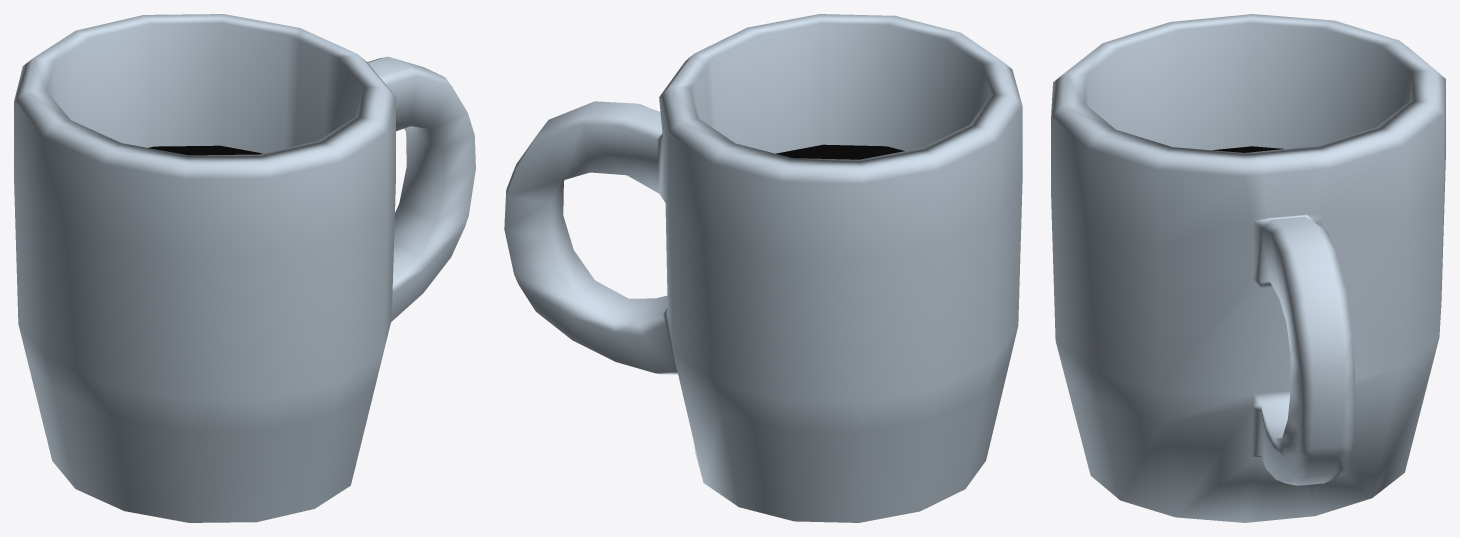
File: koffie.fbx
3 views of the same model, side by side, from view 1: azimuth 30°, elevation 25°; view 2: azimuth 150°, elevation 25°; view 3: azimuth 270°, elevation 25° (orthographic).
Parts seen in each view (by area): view 1: koffiebeker:pCylinder6; view 2: koffiebeker:pCylinder6; view 3: koffiebeker:pCylinder6.
Part boxes in pixels (box(x1,y1,x2,y2)): koffiebeker:pCylinder6: box(14, 14, 475, 522); koffiebeker:pCylinder6: box(504, 14, 1022, 522); koffiebeker:pCylinder6: box(1051, 14, 1445, 522).
Bounding box in the file's own units: 0.2945 × 0.2272 × 0.2184.
